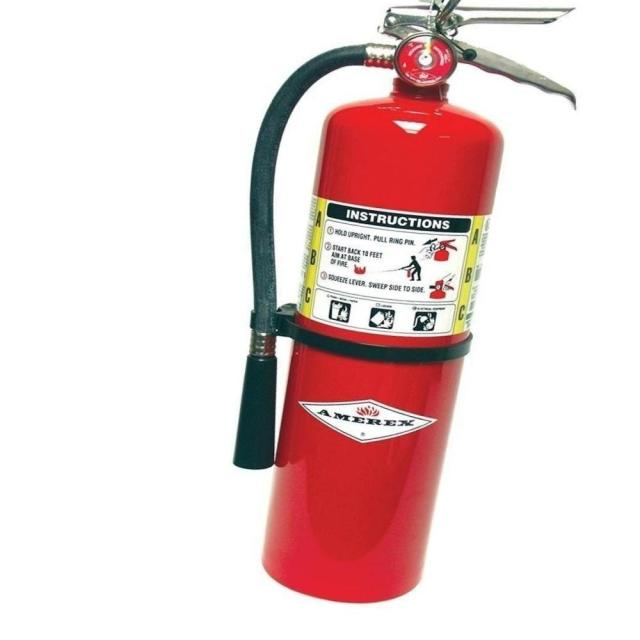fire_extinguisher: (223, 0, 584, 608)
